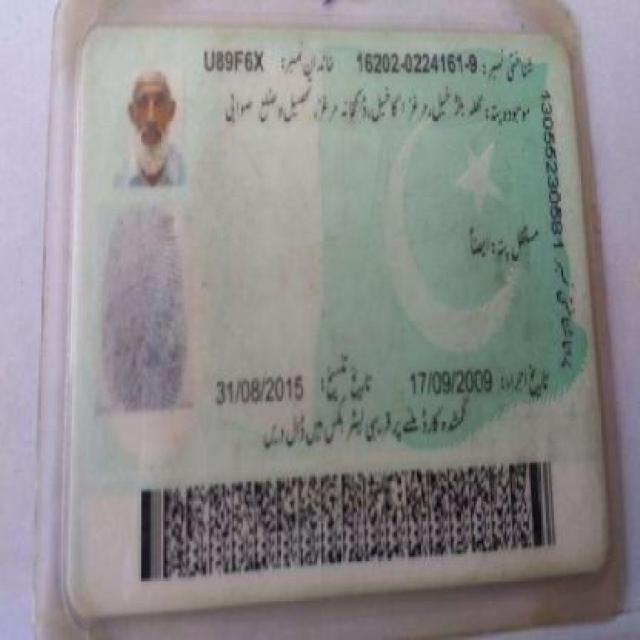Back: (55, 18, 611, 590)
